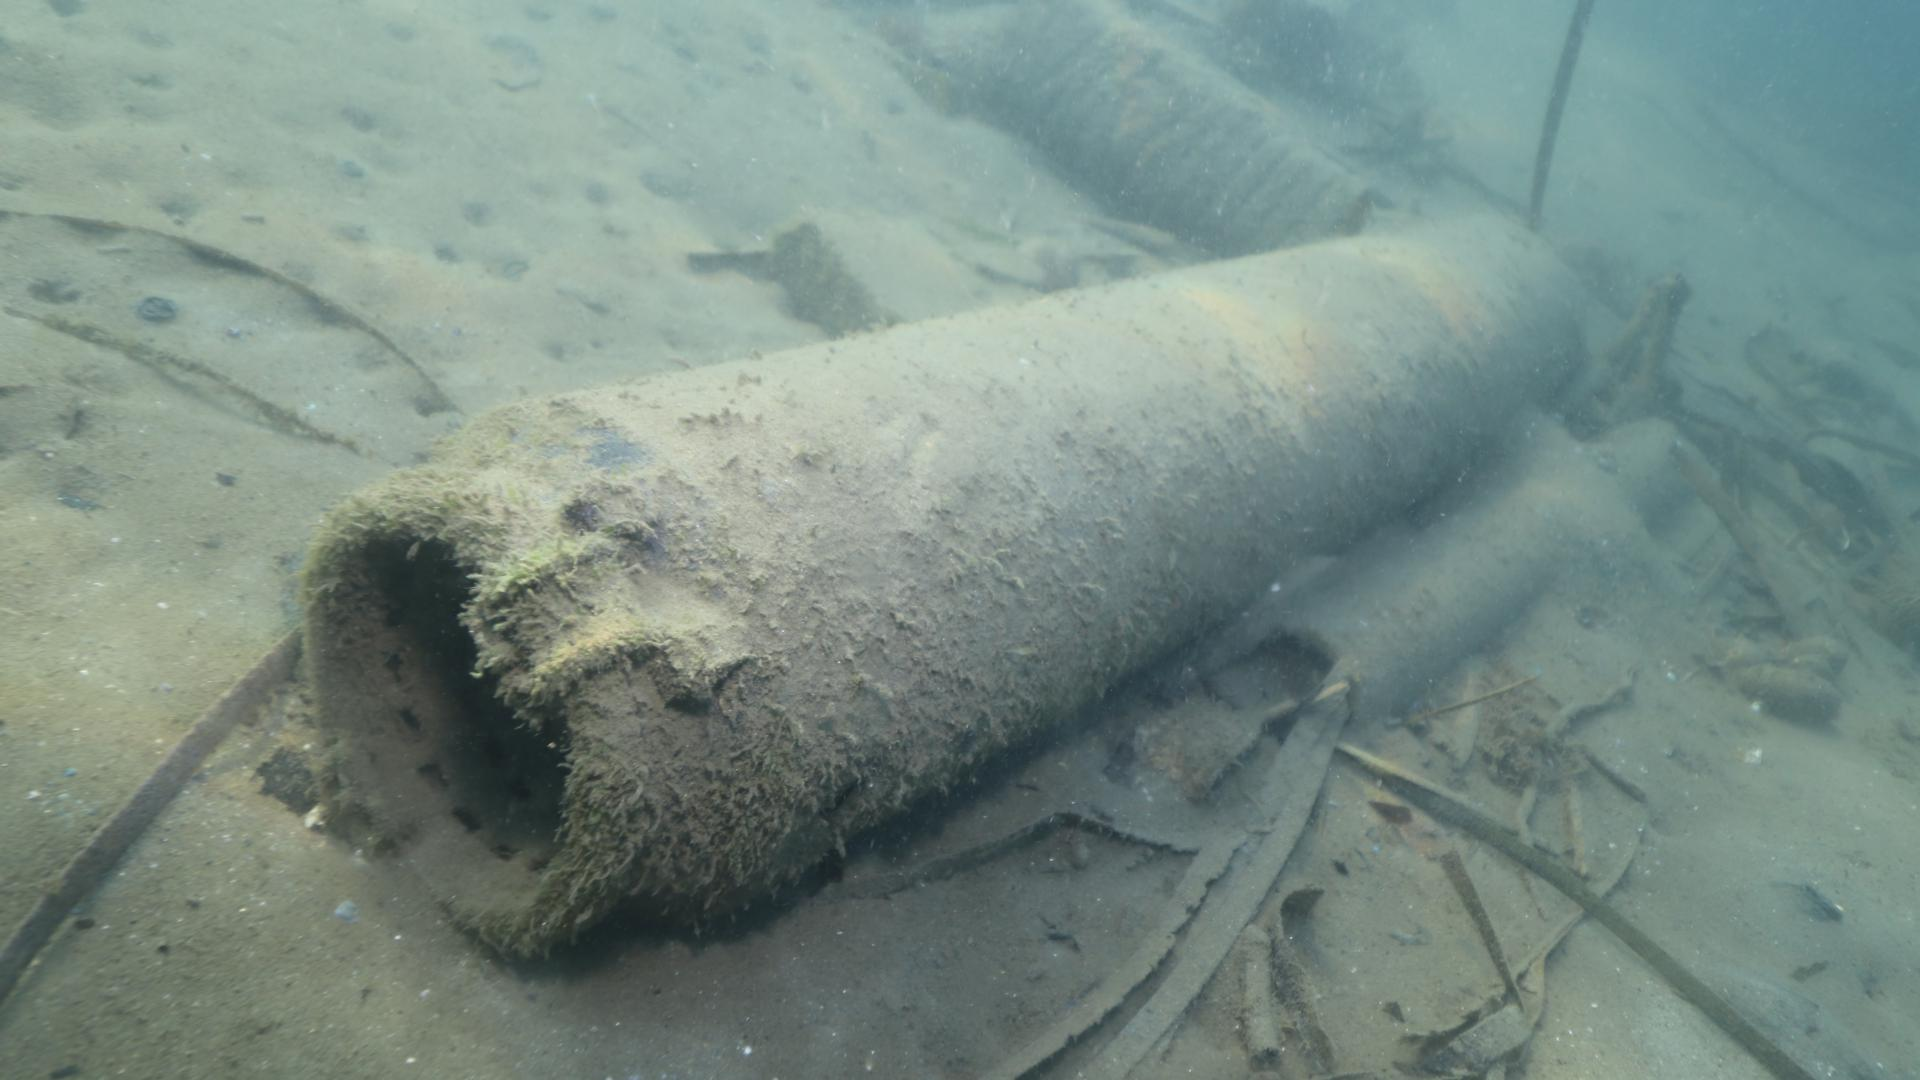eel fish trap: (306, 203, 1589, 978)
